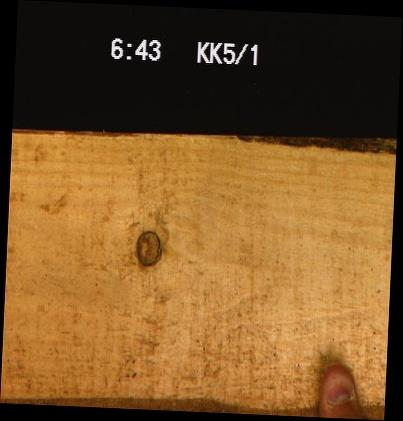dry_knot: (132, 228, 161, 268)
wave: (12, 127, 396, 145), (0, 394, 318, 410)
